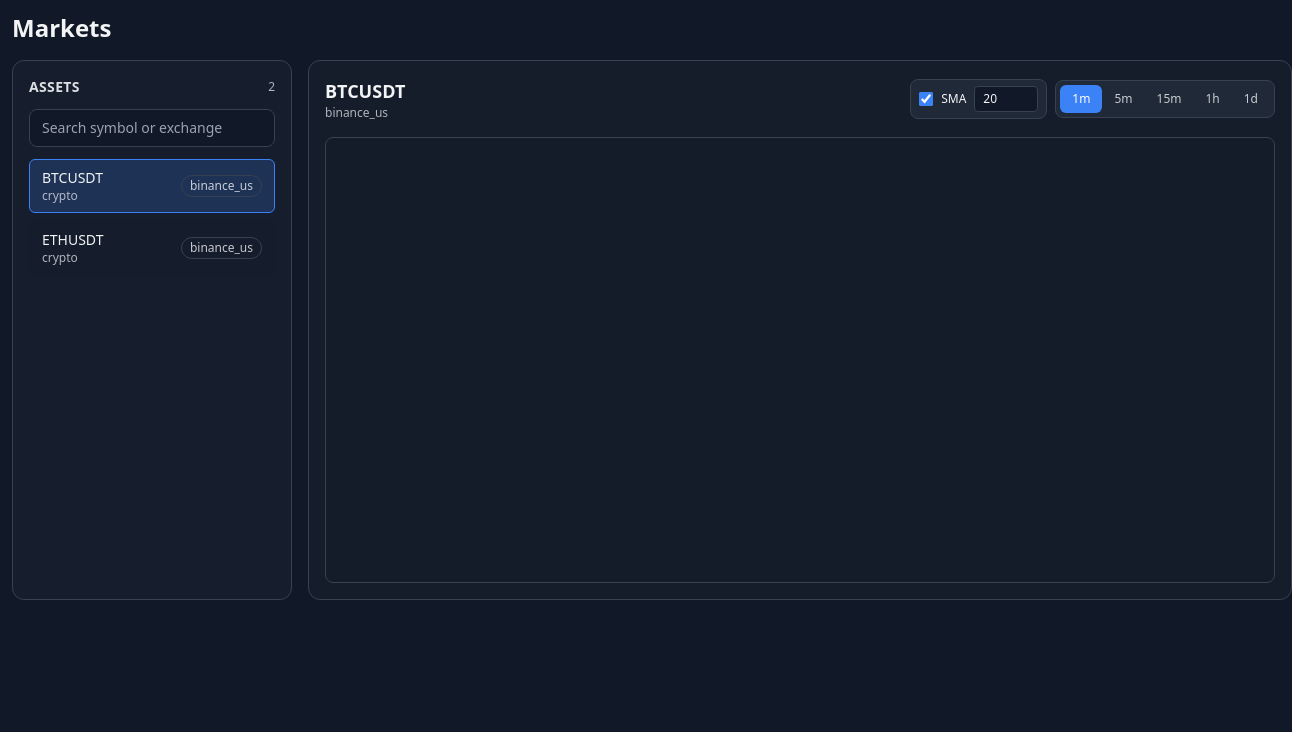
markets remaining Prompt 1.10 criteria › reuses in-memory candles when returning to a previous asset/interval
Expected: the heading "BTCUSDT" is shown, left=325, top=77, right=405, bottom=105
Click the button "ETHUSDT crypto binance_us".
click(152, 248)  # box left=29, top=221, right=275, bottom=275
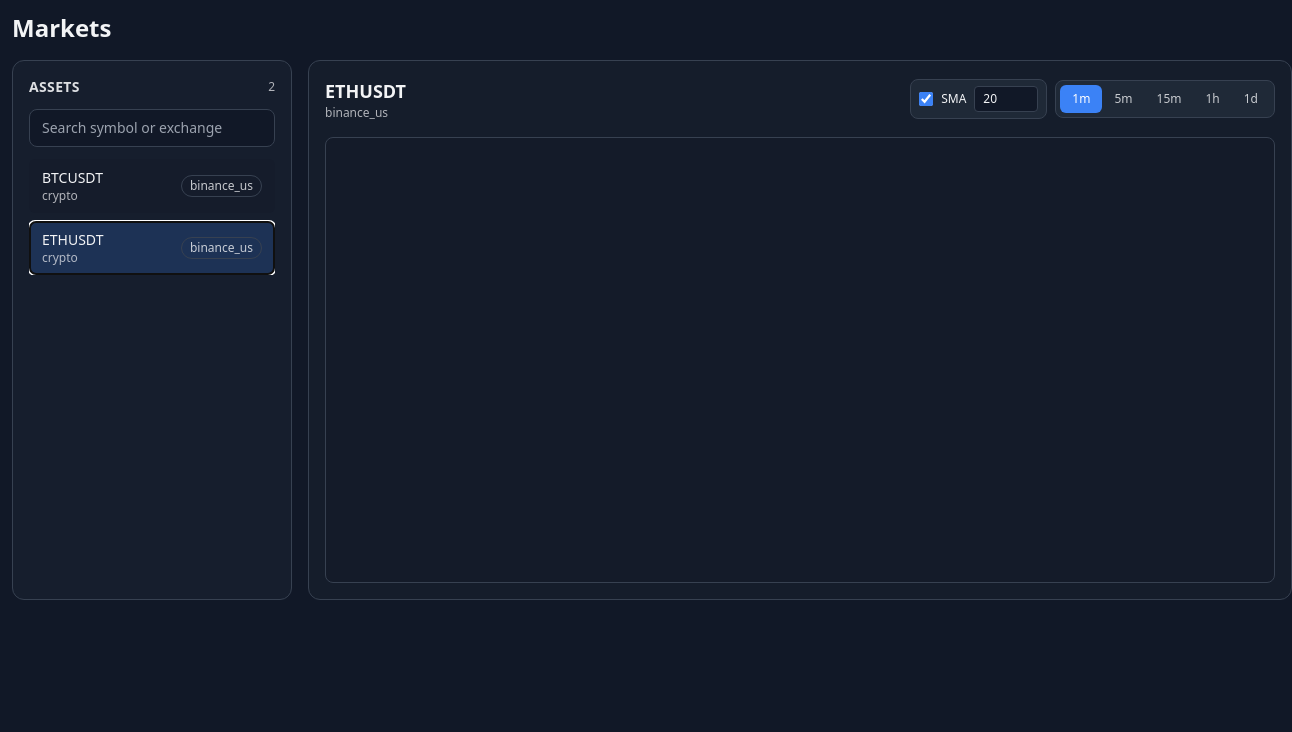
Click the button "BTCUSDT crypto binance_us".
click(152, 186)  # box left=29, top=159, right=275, bottom=213
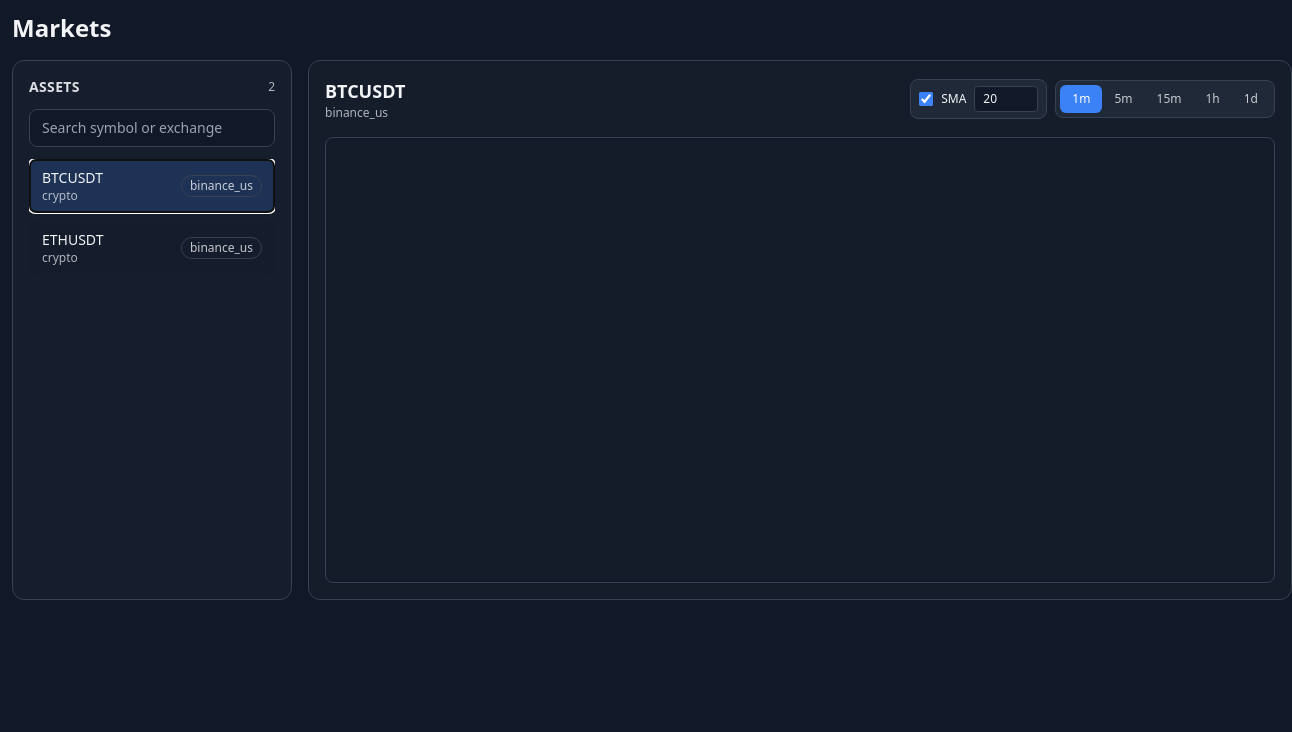
Expected: the heading "BTCUSDT" is shown, left=325, top=77, right=405, bottom=105
